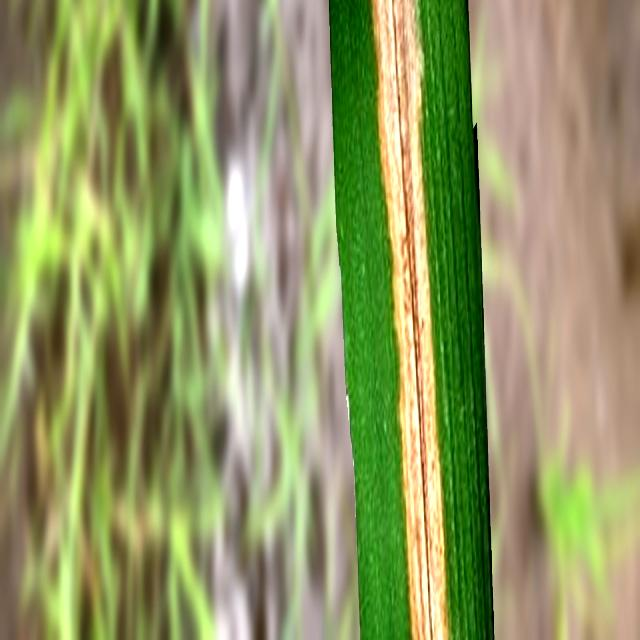BLB: (369, 0, 449, 638)
